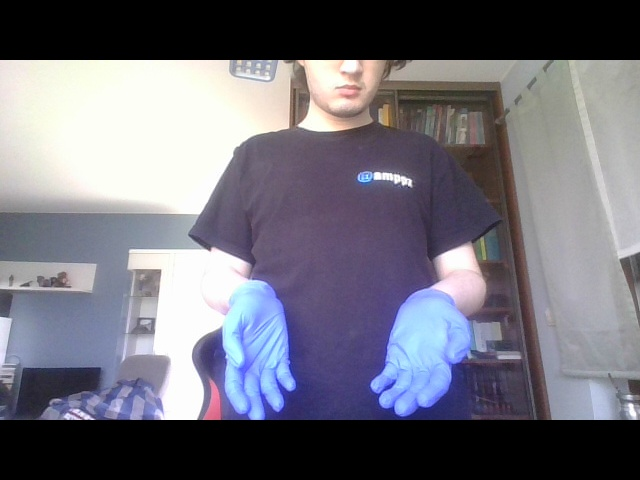glove: (367, 283, 473, 416), (221, 279, 297, 420)
